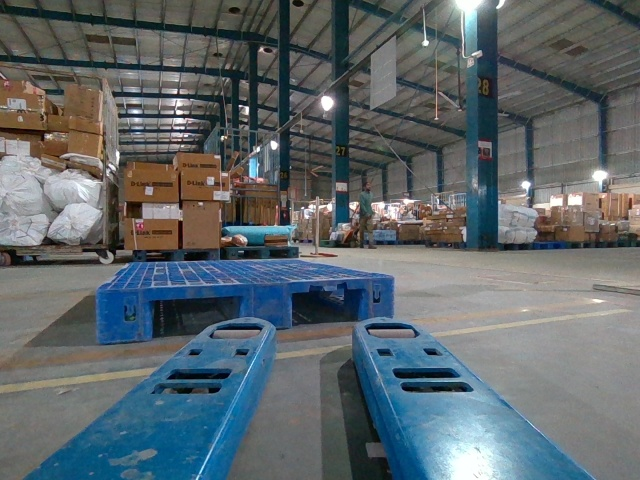block: (95, 288, 159, 342), (236, 282, 294, 329), (359, 279, 394, 321)
front: (94, 276, 394, 342)
hole pallet: (156, 297, 242, 338), (291, 293, 360, 329)
